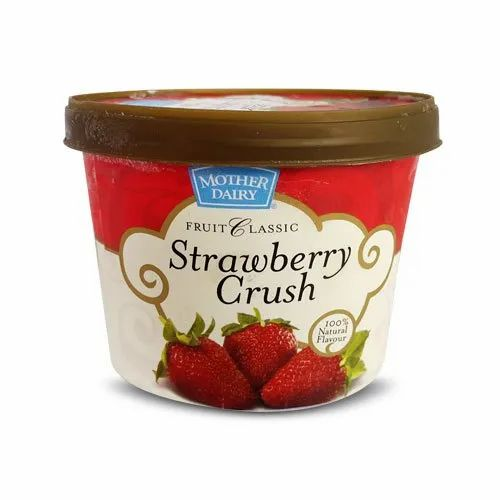Mother_Dairy: (188, 165, 292, 213)
